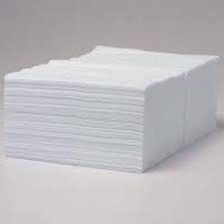tissue: (0, 39, 224, 178)
